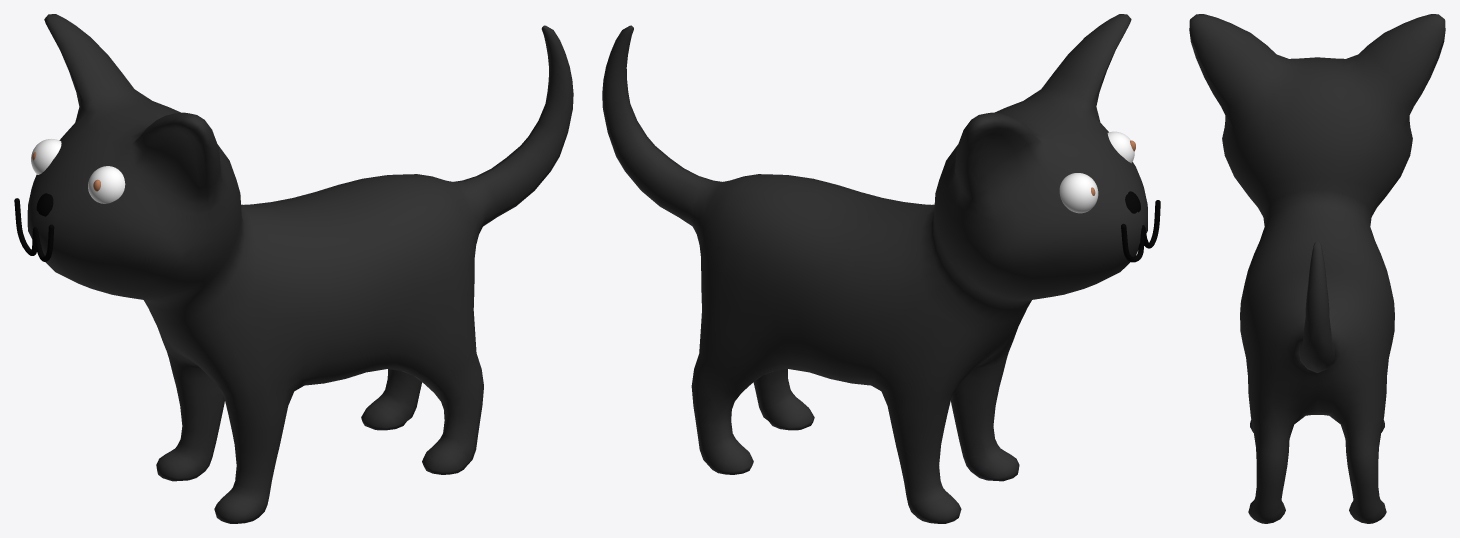
File: Basic Cat Black.glb
3 renders of one model, left to right at view 1: azimuth 30°, elevation 25°; view 2: azimuth 150°, elevation 25°; view 3: azimuth 270°, elevation 25°, orthographic. The views are drawn at different scales.
Visible parts, largest first — view 1: mesh_id27, mesh_id36, mesh_id42, mesh_id29; view 2: mesh_id27, mesh_id29, mesh_id42; view 3: mesh_id27.
Part boxes in pixels (x1,y1,x2,y2): mesh_id27: (27, 14, 573, 523); mesh_id36: (88, 166, 125, 203); mesh_id42: (14, 198, 54, 261); mesh_id29: (31, 139, 61, 174); mesh_id27: (602, 14, 1147, 523); mesh_id29: (1059, 173, 1098, 213); mesh_id42: (1121, 200, 1160, 262); mesh_id27: (1189, 14, 1445, 523).
Size of the model in its own units: 1.13 by 0.9039 by 0.5506.
6 materials, 6 textured.
